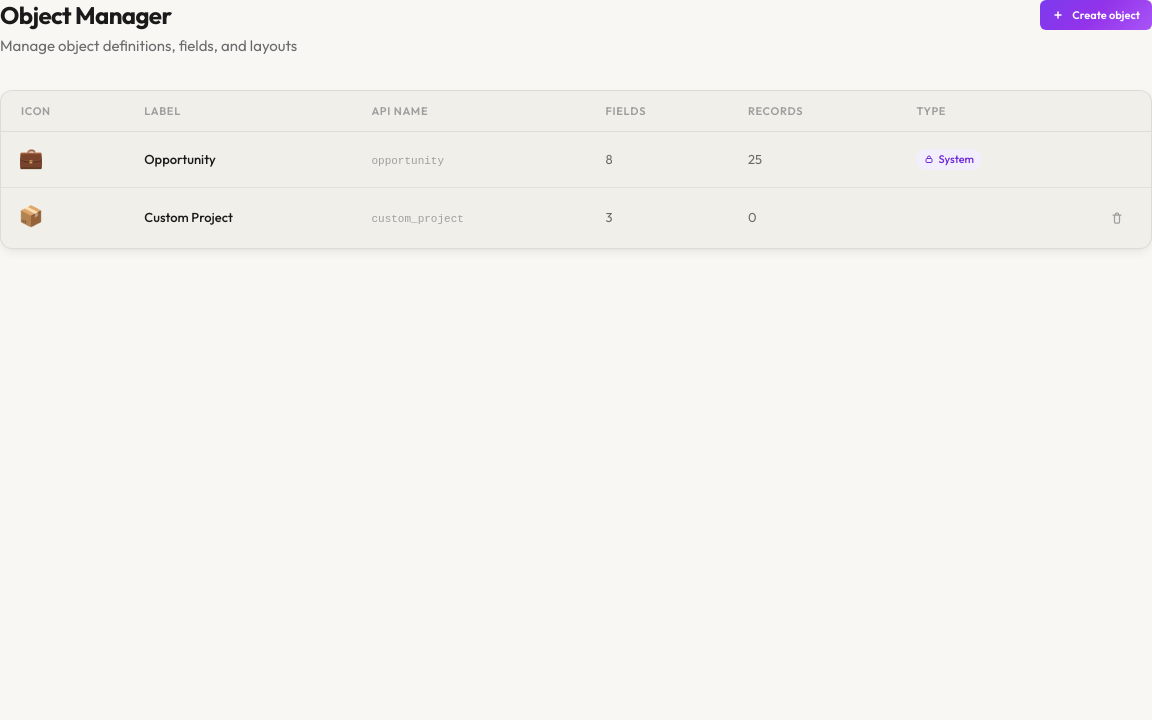
ObjectManagerPage › opens delete confirmation when delete button is clicked
Expected: the link "Custom Project" is shown, [144,209,233,225]
Click the button named "Delete Custom Project": point(1117, 218) [1103,204,1131,232]
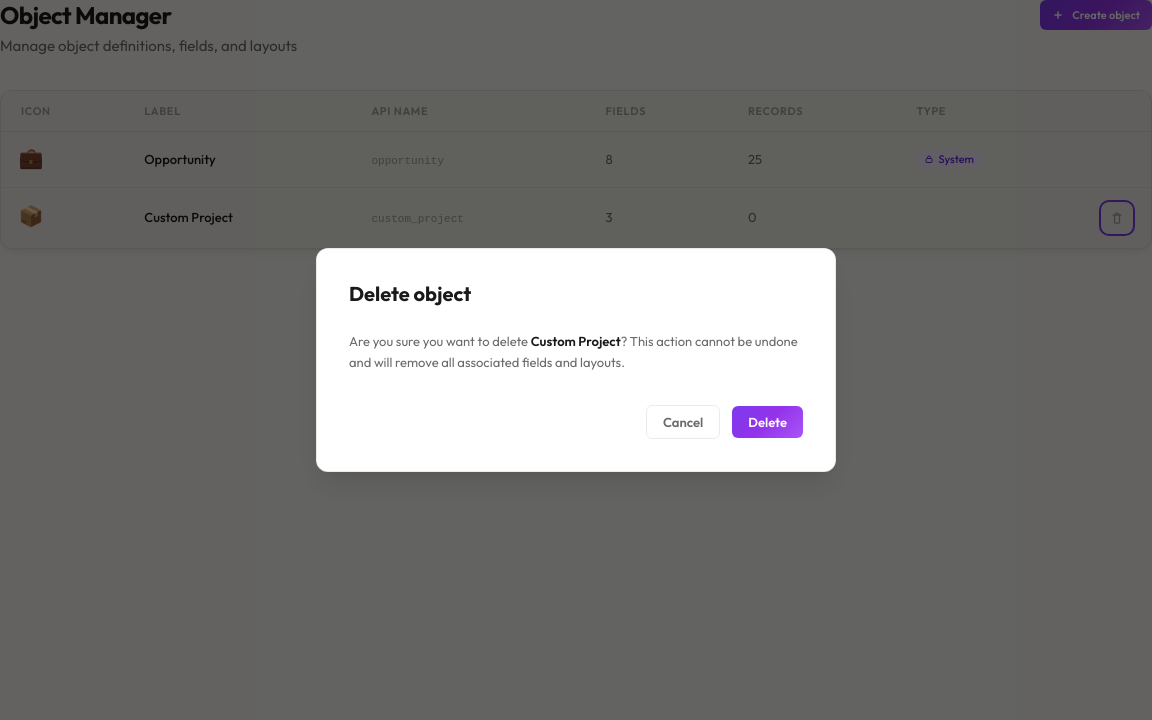
Expected: the dialog named "Confirm delete" is shown
Expected: the text "Are you sure you want to delete" is shown, [349,333,528,349]
